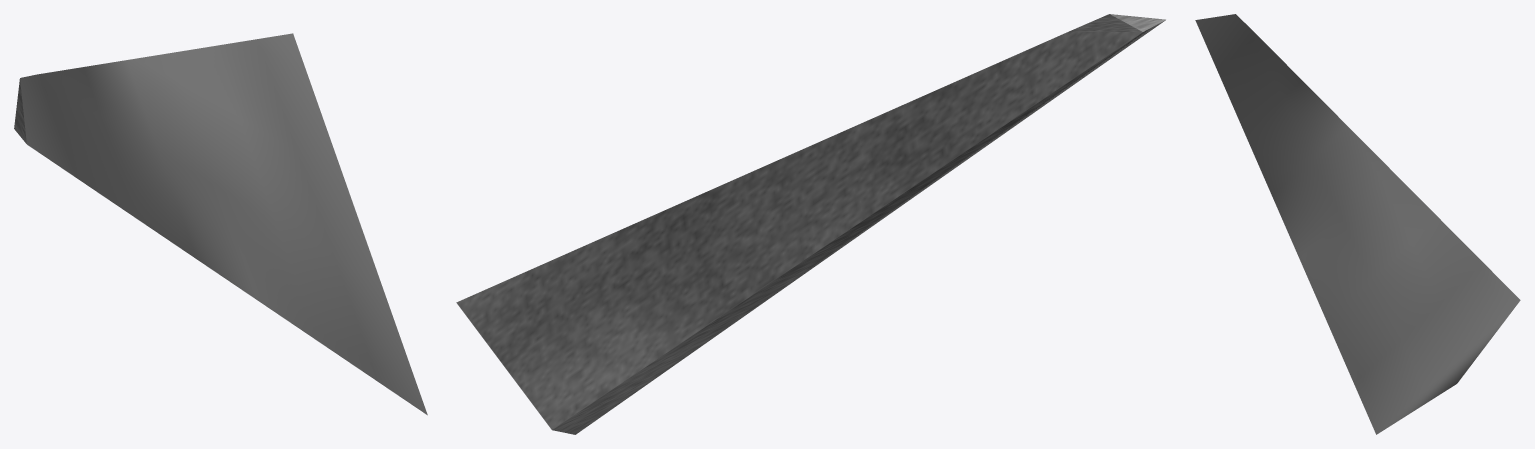
File: tail_cell_020.fbx
3 renders of one model, left to right at view 1: azimuth 30°, elevation 25°; view 2: azimuth 150°, elevation 25°; view 3: azimuth 270°, elevation 25°, orthographic. The views are drawn at different scales.
Parts seen in each view (by area): view 1: tail_cell.020; view 2: tail_cell.020; view 3: tail_cell.020.
Boxes of the visible parts, bbox=[...] form: tail_cell.020: bbox=[14, 33, 427, 415]; tail_cell.020: bbox=[456, 14, 1165, 434]; tail_cell.020: bbox=[1195, 14, 1520, 434].
Size of the model in its own units: 8.51 by 7.89 by 8.1.
